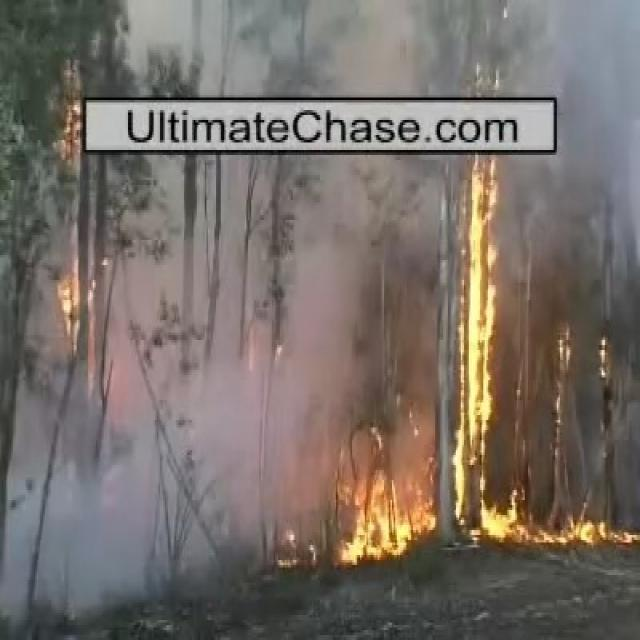fire: (457, 162, 497, 504), (342, 495, 434, 561)
smoke: (23, 367, 94, 613), (502, 5, 609, 90)
